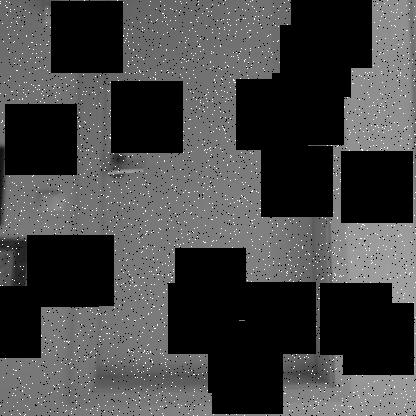Porte: (67, 1, 357, 409)
